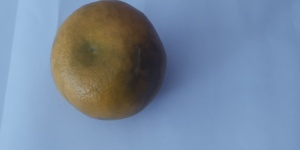BAD: (44, 2, 168, 117)
